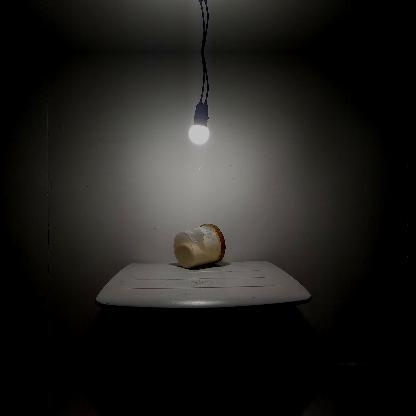Lady-s-Choice: (173, 224, 225, 268)
